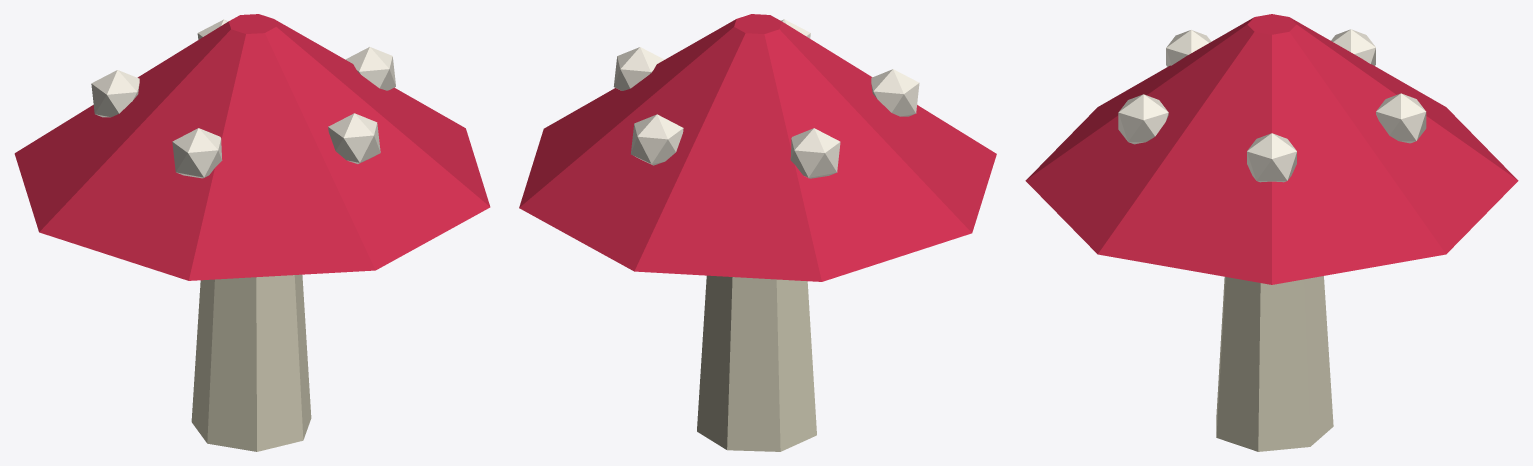
The model's file is giant_mushroom.glb.
3 views of the same model, side by side, from view 1: azimuth 30°, elevation 25°; view 2: azimuth 150°, elevation 25°; view 3: azimuth 270°, elevation 25° (orthographic).
Visible parts, largest first — view 1: giant_mushroom; view 2: giant_mushroom; view 3: giant_mushroom.
Part boxes in pixels (x1,y1,x2,y2): giant_mushroom: (14,14,490,451); giant_mushroom: (519,14,996,451); giant_mushroom: (1025,14,1518,451).
Size of the model in its own units: 2 by 1.8 by 2.
